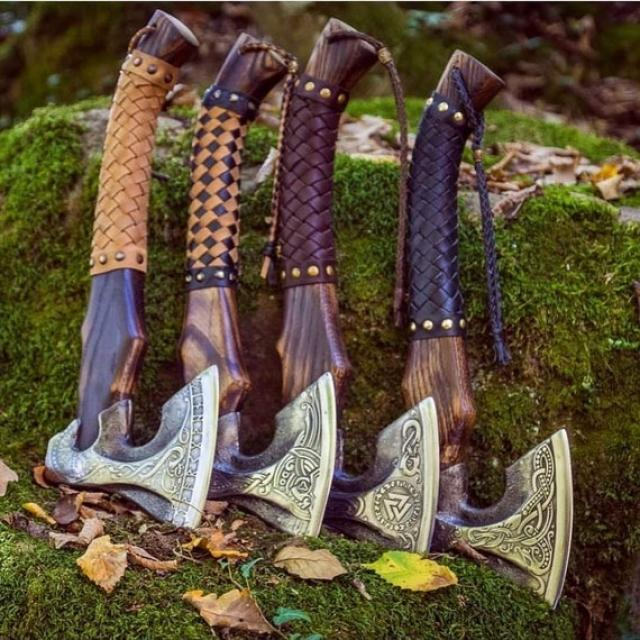axe: (271, 18, 442, 556), (45, 11, 220, 536), (407, 47, 570, 607), (189, 31, 337, 545)
